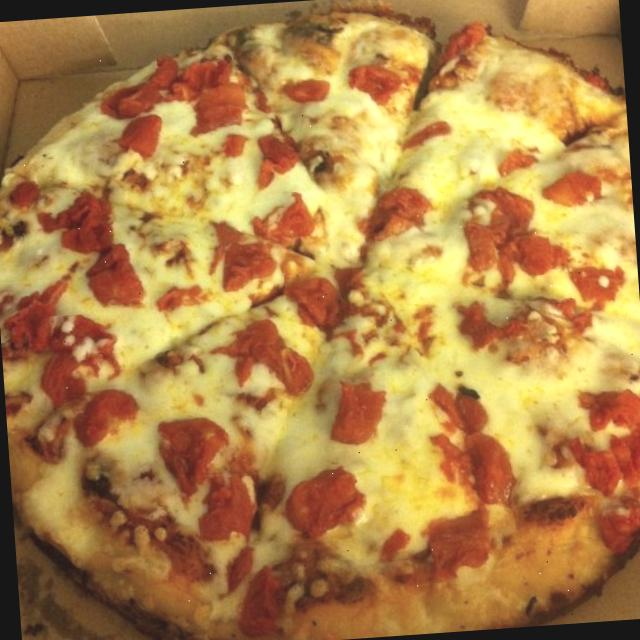pizza: (0, 4, 640, 640)
tomato: (581, 381, 640, 542), (25, 312, 127, 404), (446, 385, 514, 513), (218, 312, 313, 398), (150, 414, 230, 510), (459, 194, 549, 277), (412, 504, 501, 586), (346, 182, 442, 256), (280, 465, 368, 544), (179, 46, 249, 138), (0, 277, 74, 357), (42, 182, 118, 256), (94, 60, 183, 117), (66, 385, 142, 450), (80, 243, 145, 316), (561, 262, 629, 330), (196, 472, 258, 546), (330, 379, 392, 452), (213, 232, 278, 299), (536, 160, 608, 211), (256, 191, 316, 252), (235, 566, 288, 634), (454, 308, 540, 349), (284, 270, 348, 325), (250, 127, 304, 189), (342, 62, 404, 110), (428, 18, 487, 68), (108, 110, 163, 162), (395, 113, 456, 152), (481, 138, 540, 178), (212, 540, 257, 592), (146, 278, 212, 313), (275, 71, 333, 107), (0, 177, 42, 212)
